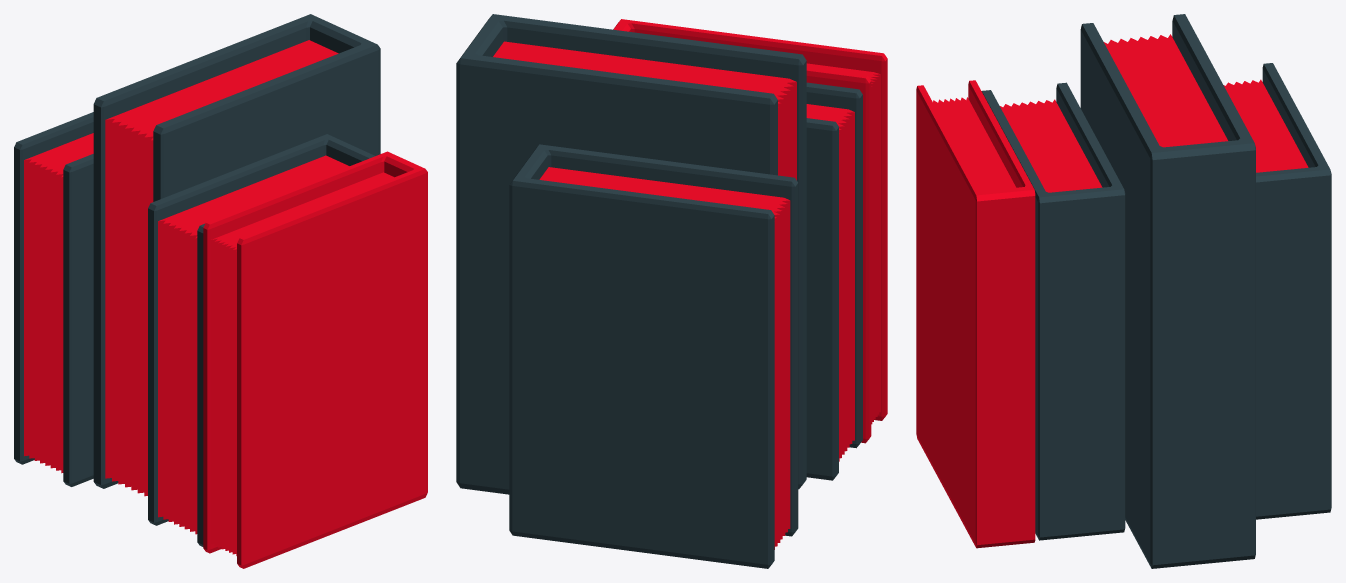
The model's file is libros.fbx.
3 renders of one model, left to right at view 1: azimuth 30°, elevation 25°; view 2: azimuth 150°, elevation 25°; view 3: azimuth 270°, elevation 25°, orthographic. The views are drawn at different scales.
Visible parts, largest first — view 1: Libros.001; view 2: Libros.001; view 3: Libros.001.
Part boxes in pixels (x1,y1,x2,y2): Libros.001: [14, 14, 427, 568]; Libros.001: [456, 14, 887, 568]; Libros.001: [916, 14, 1331, 568].
Bounding box in the file's own units: 0.4535 × 0.5406 × 0.489.
